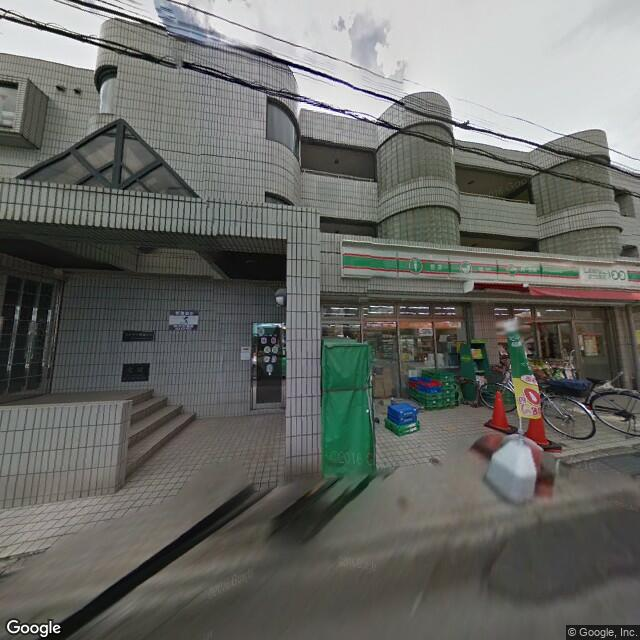lawson: (339, 236, 640, 293)
